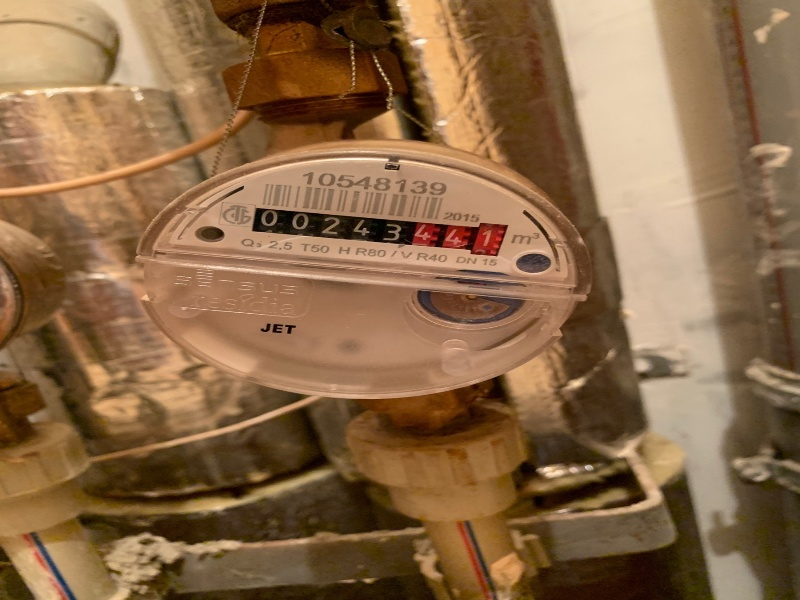meter: (252, 210, 501, 256)
